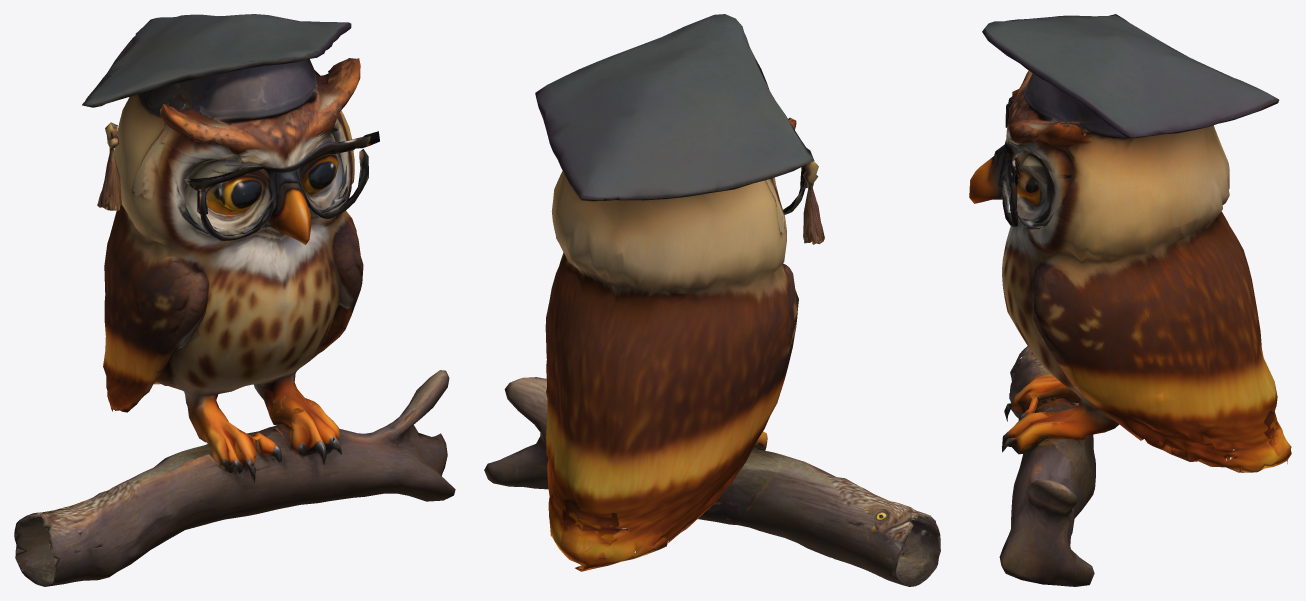
The model's file is une_chouette_savante.glb.
3 views of the same model, side by side, from view 1: azimuth 30°, elevation 25°; view 2: azimuth 150°, elevation 25°; view 3: azimuth 270°, elevation 25° (orthographic). The views are drawn at different scales.
Size of the model in its own units: 1.78 by 1.97 by 1.19.
1 material, 1 textured.
